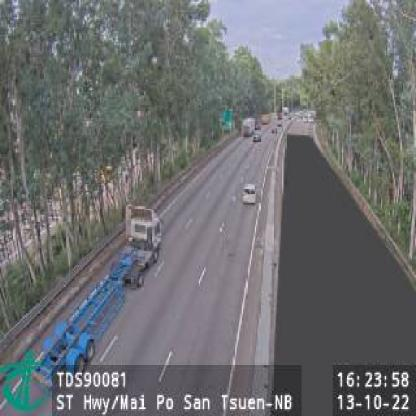Car: (242, 182, 258, 204)
Truck: (28, 203, 161, 396)
